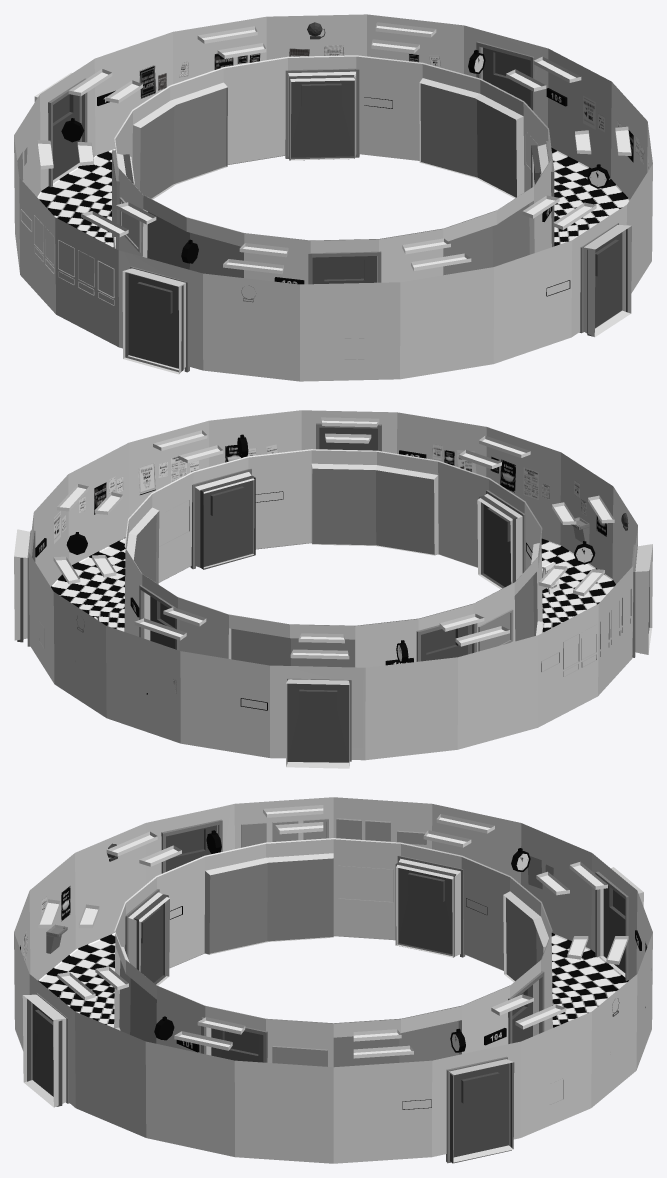
File: hallway_textured_2.fbx
3 views of the same model, one above another, from view 1: azimuth 30°, elevation 25°; view 2: azimuth 150°, elevation 25°; view 3: azimuth 270°, elevation 25° (orthographic). The views are drawn at different scales.
Parts seen in each view (by area): view 1: ext_Wall, Int_Wall, Lockers, floor, Door4, Door5, Door6, Door2, Door8, Door7, DoorFrame1, DoorFrame6 (+10 smaller); view 2: ext_Wall, Int_Wall, Lockers, floor, Door8, Door1, Door2, Door3, Door6, Board1, Door4, Light13 (+4 smaller); view 3: ext_Wall, Int_Wall, Lockers, floor, Door7, Door3, Door6, Door2, Door8, Door1, Door5, Board2 (+13 smaller).
Boxes of the visible parts, x1=… form: ext_Wall: x1=14, y1=14, x2=652, y2=381; Int_Wall: x1=113, y1=55, x2=552, y2=284; Lockers: x1=140, y1=83, x2=529, y2=277; floor: x1=37, y1=147, x2=629, y2=247; Door4: x1=289, y1=75, x2=354, y2=160; Door5: x1=125, y1=272, x2=183, y2=372; Door6: x1=587, y1=229, x2=627, y2=336; Door2: x1=312, y1=256, x2=376, y2=284; Door8: x1=53, y1=94, x2=79, y2=179; Door7: x1=482, y1=47, x2=530, y2=107; DoorFrame1: x1=285, y1=68, x2=359, y2=158; DoorFrame6: x1=48, y1=78, x2=87, y2=187; ext_Wall: x1=14, y1=410, x2=652, y2=768; Int_Wall: x1=124, y1=449, x2=543, y2=667; Lockers: x1=133, y1=468, x2=537, y2=667; floor: x1=51, y1=537, x2=615, y2=632; Door8: x1=287, y1=682, x2=349, y2=763; Door1: x1=200, y1=475, x2=255, y2=569; Door2: x1=479, y1=495, x2=517, y2=588; Door3: x1=421, y1=625, x2=467, y2=661; Door6: x1=319, y1=427, x2=377, y2=450; Board1: x1=478, y1=609, x2=513, y2=651; Door4: x1=150, y1=596, x2=175, y2=648; Light13: x1=290, y1=649, x2=349, y2=659; ext_Wall: x1=14, y1=797, x2=652, y2=1163; Int_Wall: x1=113, y1=838, x2=553, y2=1067; Lockers: x1=119, y1=858, x2=543, y2=1067; floor: x1=38, y1=933, x2=628, y2=1027; Door7: x1=450, y1=1062, x2=511, y2=1163; Door3: x1=395, y1=862, x2=456, y2=957; Door6: x1=27, y1=999, x2=62, y2=1106; Door2: x1=133, y1=894, x2=168, y2=984; Door8: x1=603, y1=886, x2=625, y2=972; Door1: x1=211, y1=1028, x2=263, y2=1062; Door5: x1=166, y1=825, x2=216, y2=871; Board2: x1=272, y1=1046, x2=327, y2=1066.
Bounding box in the file's own units: 803 × 149 × 803.
